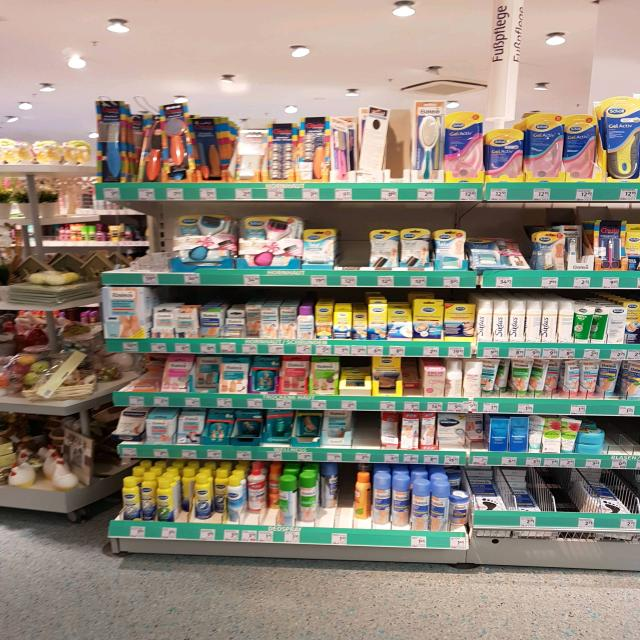void: (126, 206, 169, 269), (542, 470, 581, 510), (342, 214, 368, 265), (612, 420, 638, 458), (356, 412, 378, 451)
